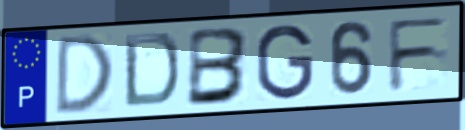6: (328, 19, 377, 97)
B: (185, 26, 253, 109)
D: (52, 31, 116, 118), (121, 31, 182, 110)
F: (385, 14, 453, 95)
G: (254, 22, 316, 103)
